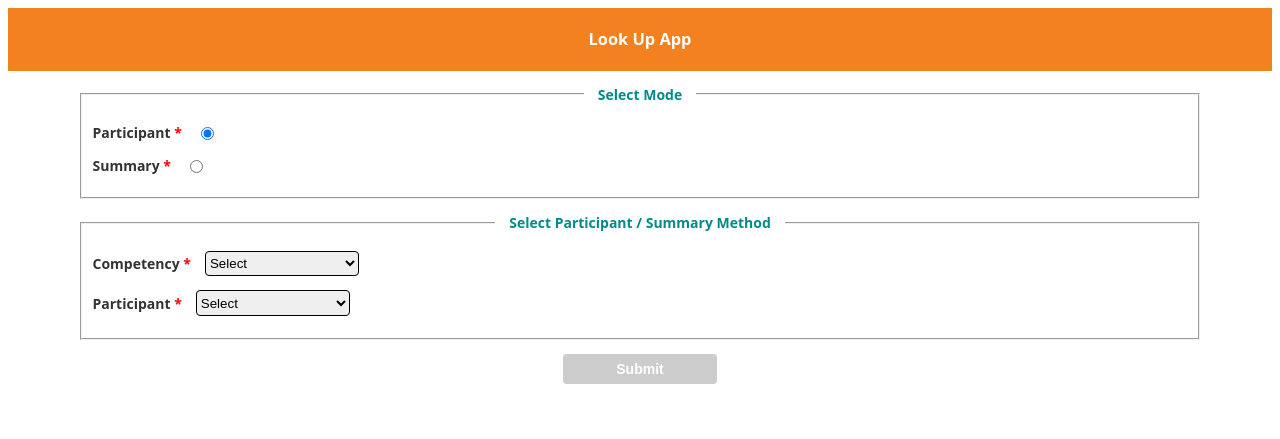
LookupForm Component › Shows message when selected participant has no score for selected competency
The width and height of the screenshot is (1280, 439).
Expected: the heading "Look Up App" is shown, 589,28 -> 692,50
Note: Select a competency
Select "total" in the dropdown labelled "Competency *" at (282, 264), box 205,251 -> 359,276
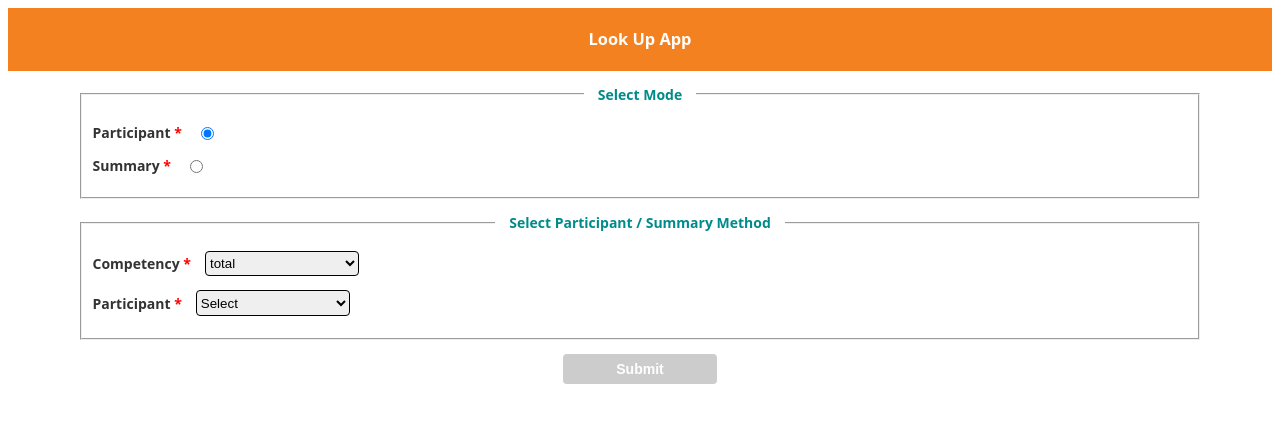
Select "Jon" in the dropdown labelled "Participant *" at (273, 303), box 196,290 -> 350,316
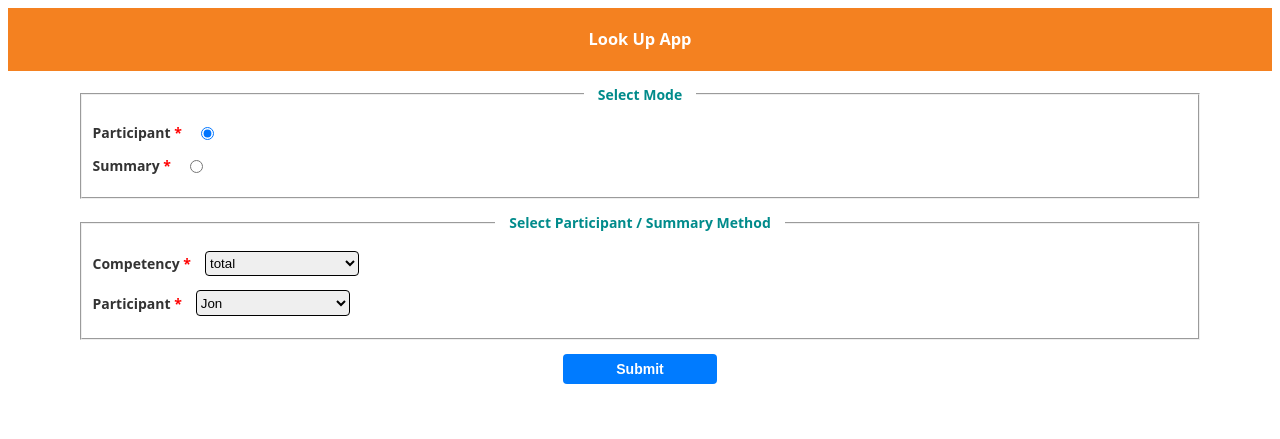
Result: the button "Submit" is enabled
Click the button "Submit" at (640, 369), box 563,354 -> 717,384
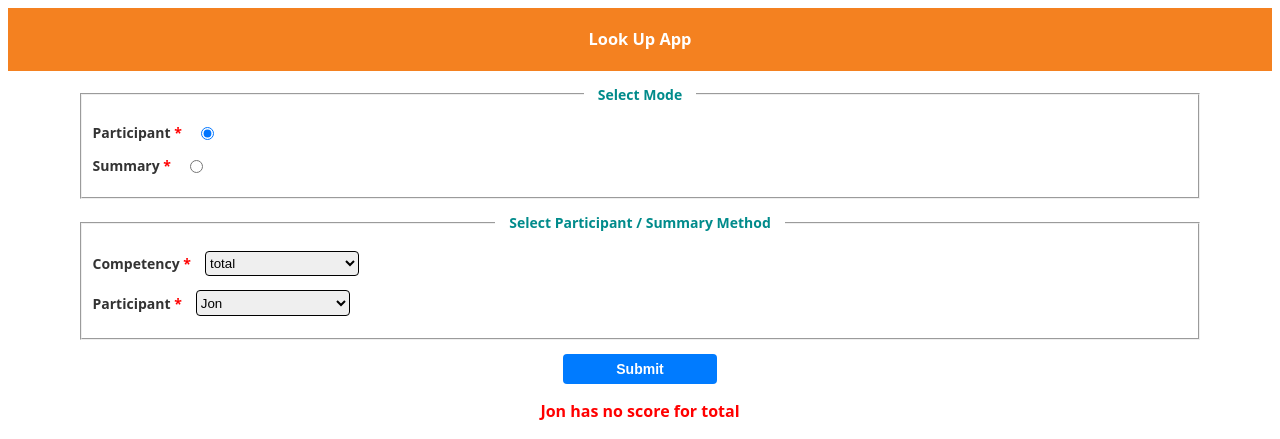
Result: the text "Jon has no score for total" is shown at 540,400 -> 740,422
